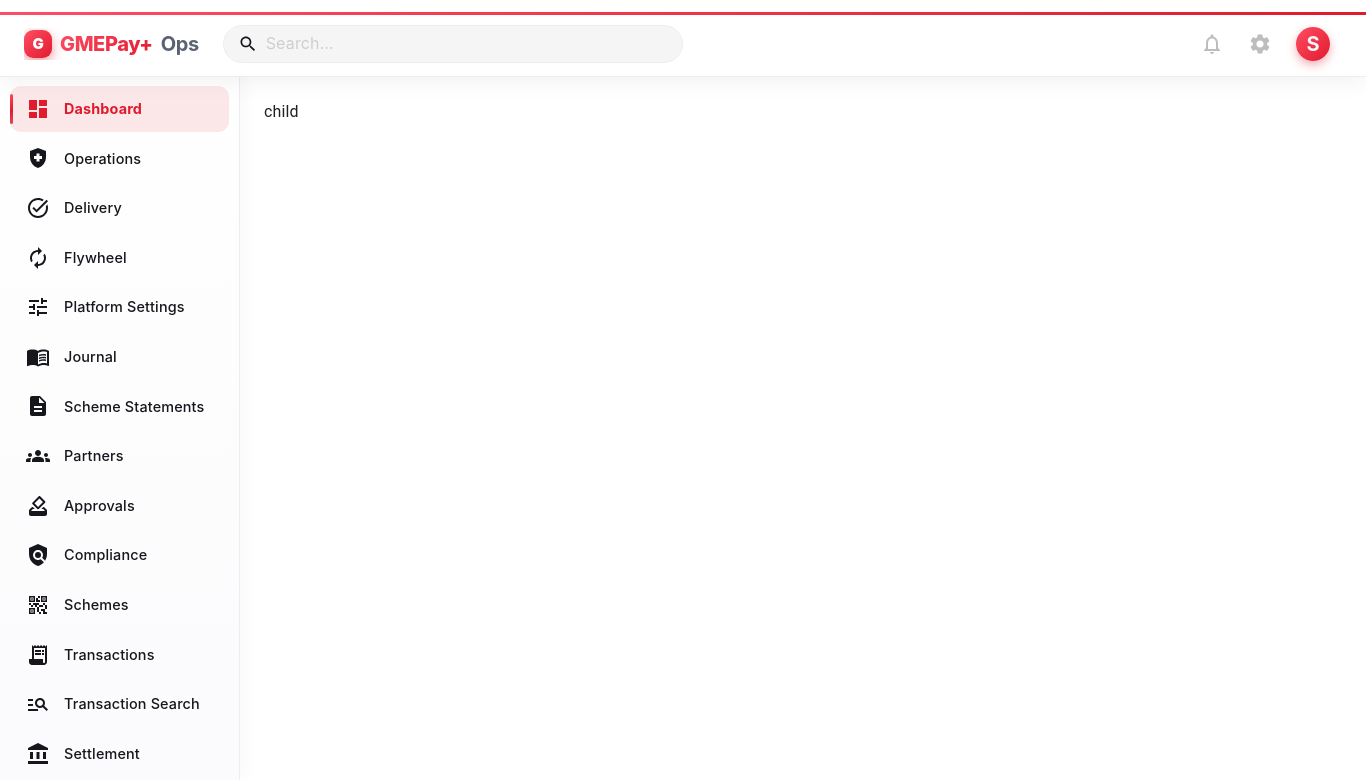
Test: AppShell › opens the user menu when the avatar is clicked
The width and height of the screenshot is (1366, 780).
Click the button named "user menu": coordinates (1313, 44) [1284,15,1342,73]
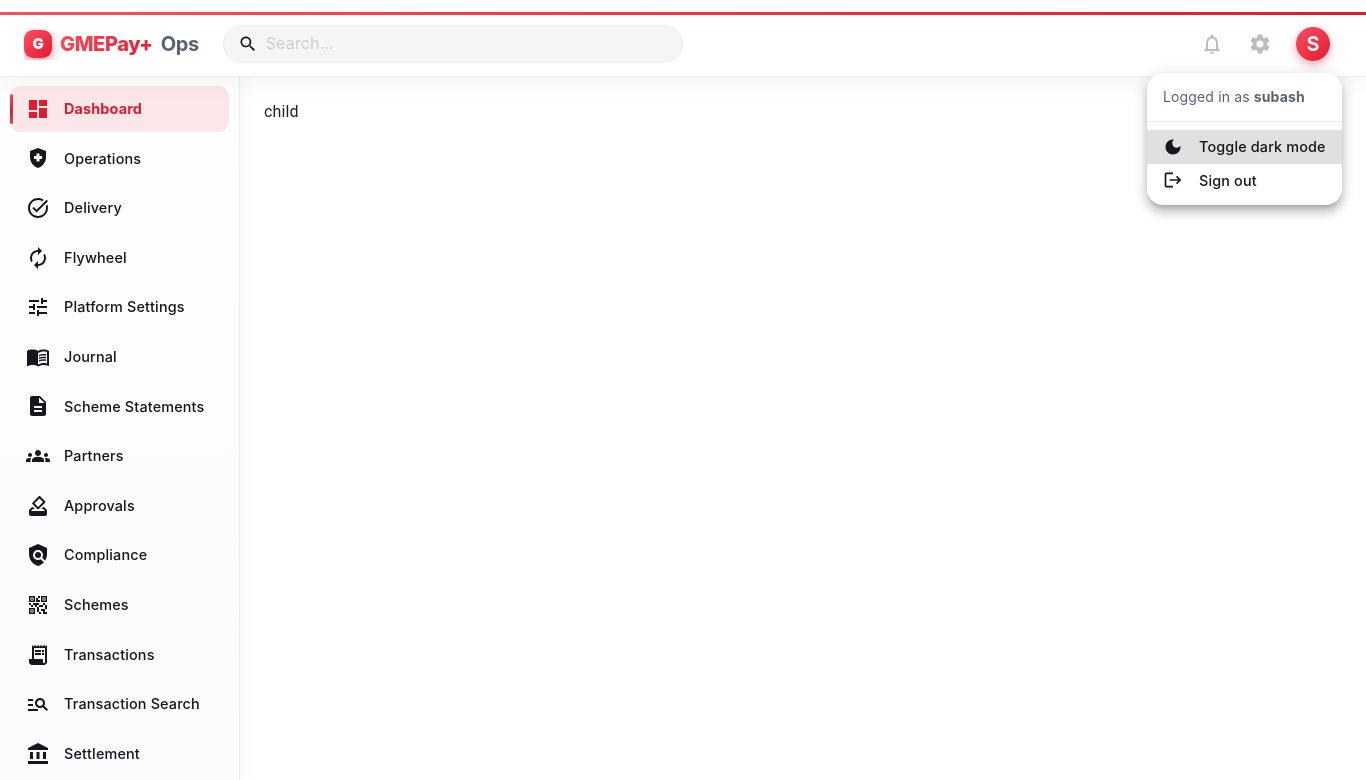
Expected: the menu item "Toggle dark mode" is shown, [1147,130,1342,164]
Expected: the menu item "Sign out" is shown, [1163,170,1257,190]
Expected: the text "subash" is shown, [1254,88,1305,105]
